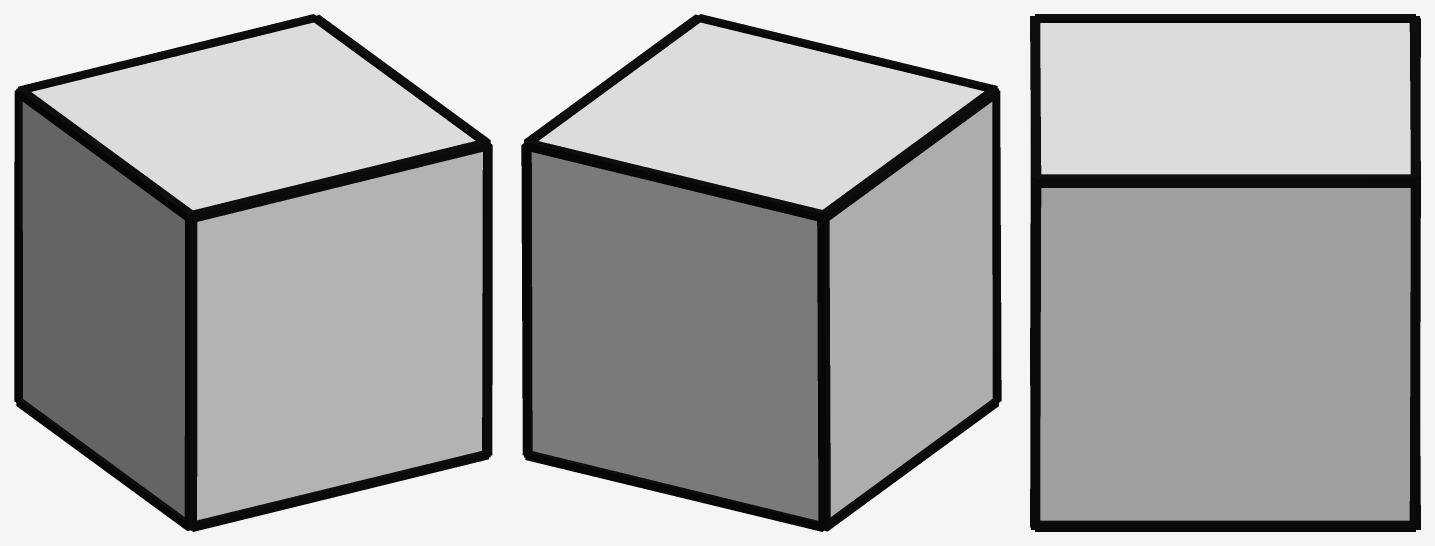
The model's file is Robot.glb.
3 renders of one model, left to right at view 1: azimuth 30°, elevation 25°; view 2: azimuth 150°, elevation 25°; view 3: azimuth 270°, elevation 25°, orthographic. The views are drawn at different scales.
Visible parts, largest first — view 1: Robot, Robot.010, Robot.008, Robot.009, Robot.007, Robot.004, Robot.011, Robot.005, Robot.003, Robot.001; view 2: Robot, Robot.011, Robot.005, Robot.012, Robot.006, Robot.004, Robot.010, Robot.008, Robot.003, Robot.001; view 3: Robot, Robot.001, Robot.002, Robot.009, Robot.012, Robot.004, Robot.005, Robot.008.
Boxes of the visible parts, x1,y1,x2,y2 form: Robot: (22, 22, 482, 520); Robot.010: (184, 217, 197, 529); Robot.008: (191, 139, 488, 222); Robot.009: (482, 143, 492, 456); Robot.007: (191, 451, 488, 531); Robot.004: (16, 87, 194, 221); Robot.011: (14, 90, 22, 404); Robot.005: (18, 14, 317, 91); Robot.003: (16, 399, 190, 530); Robot.001: (312, 15, 490, 143); Robot: (531, 22, 992, 520); Robot.011: (817, 216, 830, 528); Robot.005: (525, 140, 826, 220); Robot.012: (521, 143, 532, 455); Robot.006: (525, 451, 824, 531); Robot.004: (820, 87, 998, 221); Robot.010: (992, 90, 1001, 403); Robot.008: (699, 14, 997, 91); Robot.003: (824, 399, 998, 531); Robot.001: (524, 14, 702, 143); Robot: (1040, 23, 1410, 520); Robot.001: (1035, 174, 1415, 187); Robot.002: (1035, 520, 1415, 531); Robot.009: (1030, 181, 1041, 527); Robot.012: (1409, 181, 1420, 527); Robot.004: (1035, 14, 1415, 22); Robot.005: (1409, 16, 1420, 180); Robot.008: (1030, 16, 1041, 180).
Size of the model in its own units: 2.06 by 2.05 by 2.06.
Materials: 13 (13 with a texture image).
